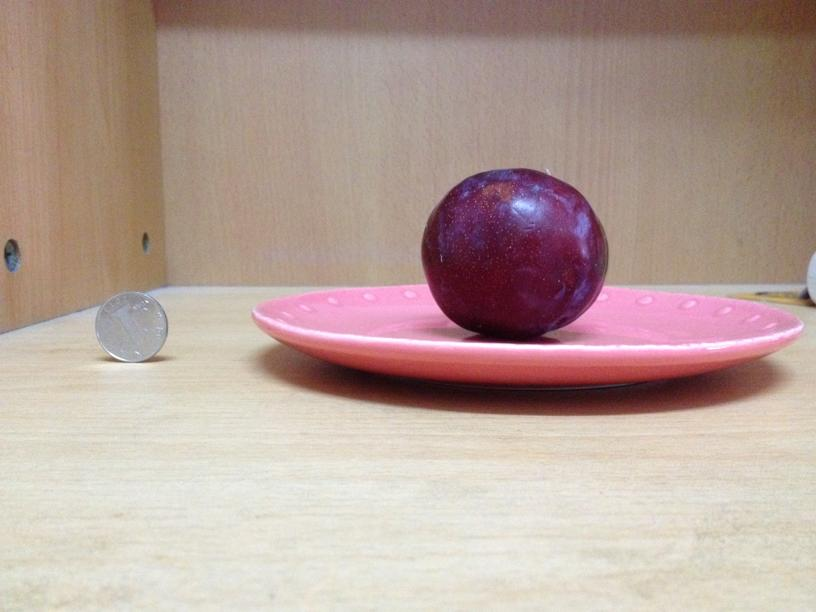coin: (92, 294, 168, 362)
plum: (419, 167, 608, 334)
